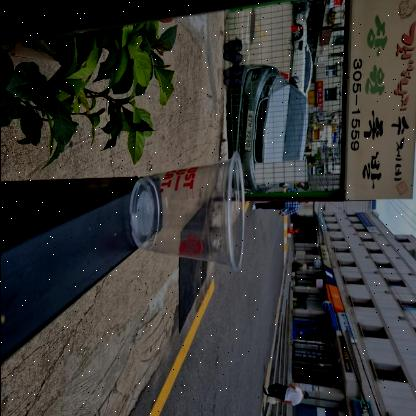Others: (126, 145, 248, 279)
